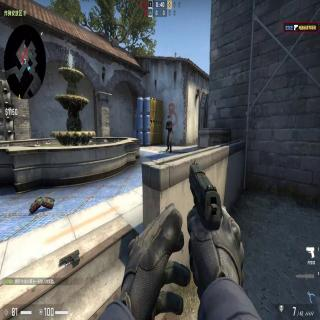T-Body: (165, 115, 173, 154)
T-Head: (167, 116, 171, 122)
